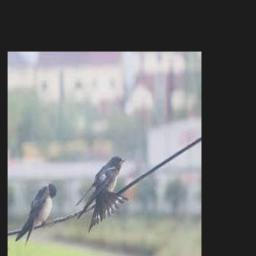Swallow: (76, 156, 128, 234), (15, 183, 57, 247)
